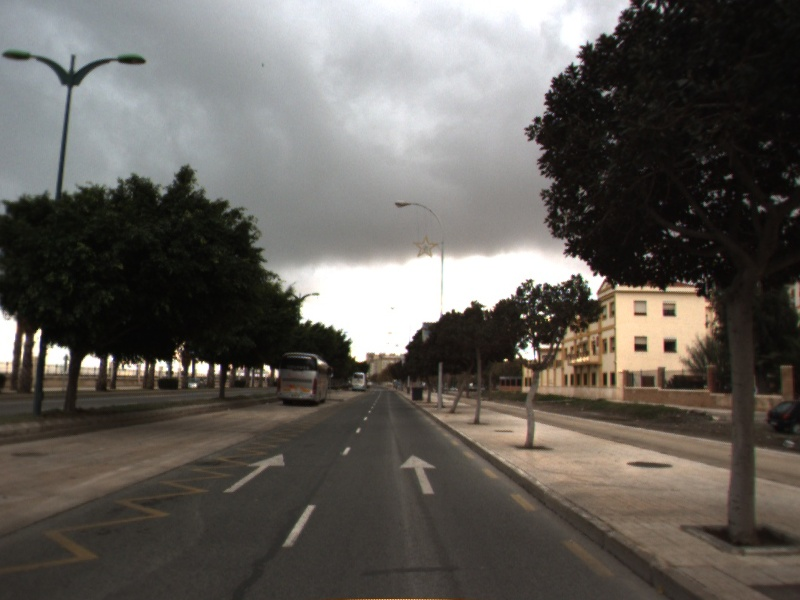STRAIGHT: (221, 451, 286, 494), (398, 452, 439, 496)
